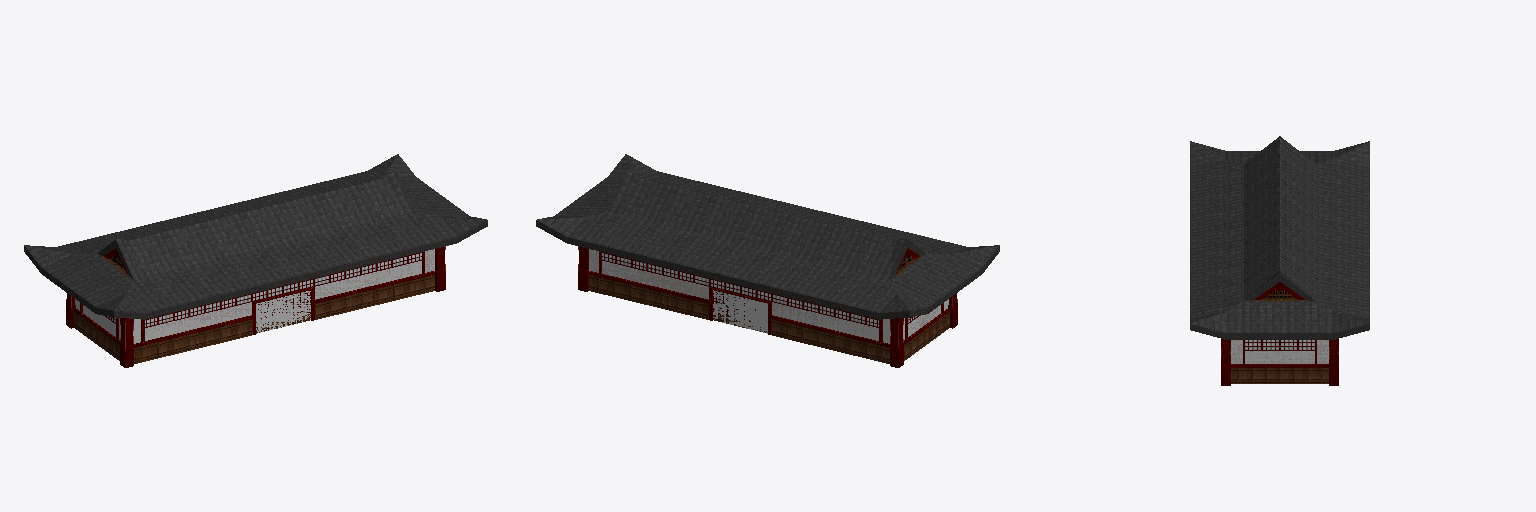
The picture shows the model from 3 angles: view 1: azimuth 30°, elevation 25°; view 2: azimuth 150°, elevation 25°; view 3: azimuth 270°, elevation 25°; orthographic projection.
Parts seen in each view (by area): view 1: Plane.021, Plane.002, Plane, Plane.001, Plane.004, Plane.011, Plane.012, Plane.019, Plane.017, Cube.003_Cube.018; view 2: Plane.021, Plane.002, Plane, Plane.001, Plane.004, Plane.010, Plane.009, Plane.019, Plane.017, Cube.016_Cube.019; view 3: Plane.021, Plane.002, Plane.018, Plane.001, Plane, Plane.004.
Part boxes in pixels (x1,y1,x2,y2): Plane.021: (24, 154, 486, 312); Plane.002: (116, 171, 413, 279); Plane: (75, 249, 434, 343); Plane.001: (24, 220, 487, 319); Plane.004: (105, 252, 421, 327); Plane.011: (315, 275, 434, 319); Plane.012: (134, 319, 252, 363); Plane.019: (102, 249, 434, 339); Plane.017: (74, 312, 119, 360); Cube.003_Cube.018: (120, 318, 133, 367); Plane.021: (537, 154, 999, 312); Plane.002: (610, 171, 907, 279); Plane: (589, 249, 948, 343); Plane.001: (536, 220, 999, 319); Plane.004: (602, 252, 918, 327); Plane.010: (589, 275, 708, 319); Plane.009: (771, 319, 889, 363); Plane.019: (589, 249, 939, 338); Plane.017: (904, 312, 949, 360); Cube.016_Cube.019: (890, 318, 903, 367); Plane.021: (1190, 141, 1369, 332); Plane.002: (1244, 136, 1315, 299); Plane.018: (1231, 368, 1328, 383); Plane.001: (1190, 324, 1369, 339); Plane: (1231, 340, 1328, 363); Plane.004: (1245, 340, 1314, 350).
Size of the model in its own units: 24 by 6.3 by 10.
Materials: 10 (9 with a texture image).